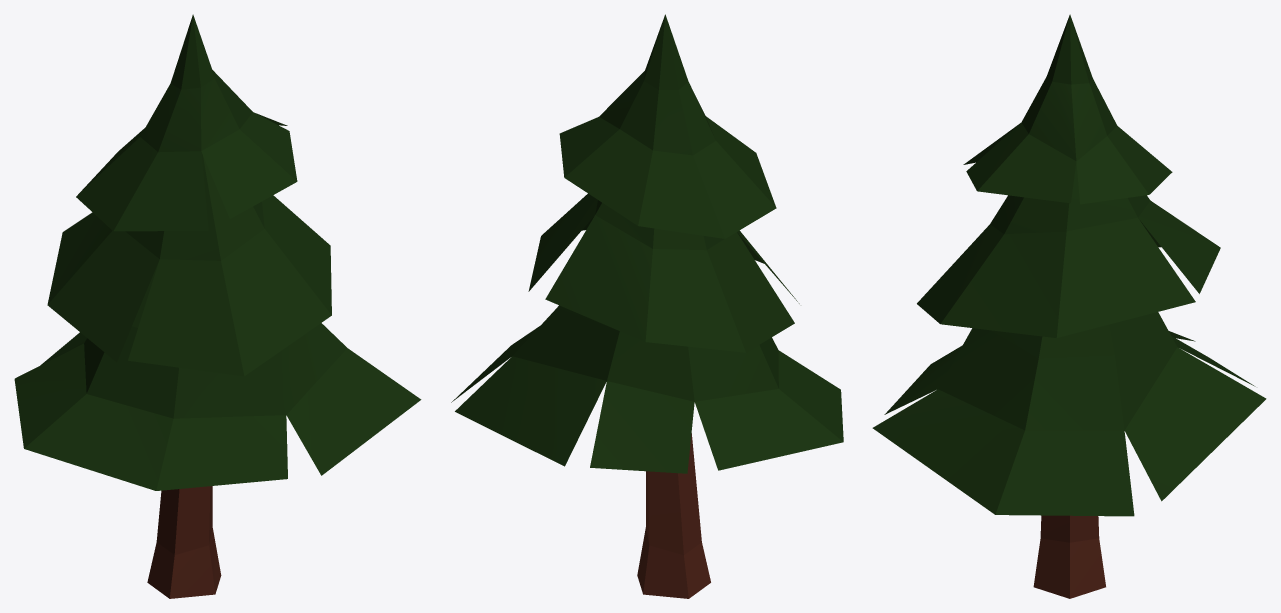
File: goodTree_treeA.FBX
3 renders of one model, left to right at view 1: azimuth 30°, elevation 25°; view 2: azimuth 150°, elevation 25°; view 3: azimuth 270°, elevation 25°, orthographic.
Visible parts, largest first — view 1: goodTree_treeA; view 2: goodTree_treeA; view 3: goodTree_treeA.
Boxes of the visible parts, box(x1,y1,x2,y2) form: goodTree_treeA: box(14, 14, 421, 598); goodTree_treeA: box(451, 14, 843, 598); goodTree_treeA: box(872, 14, 1266, 598).
Size of the model in its own units: 188 by 279 by 175.
